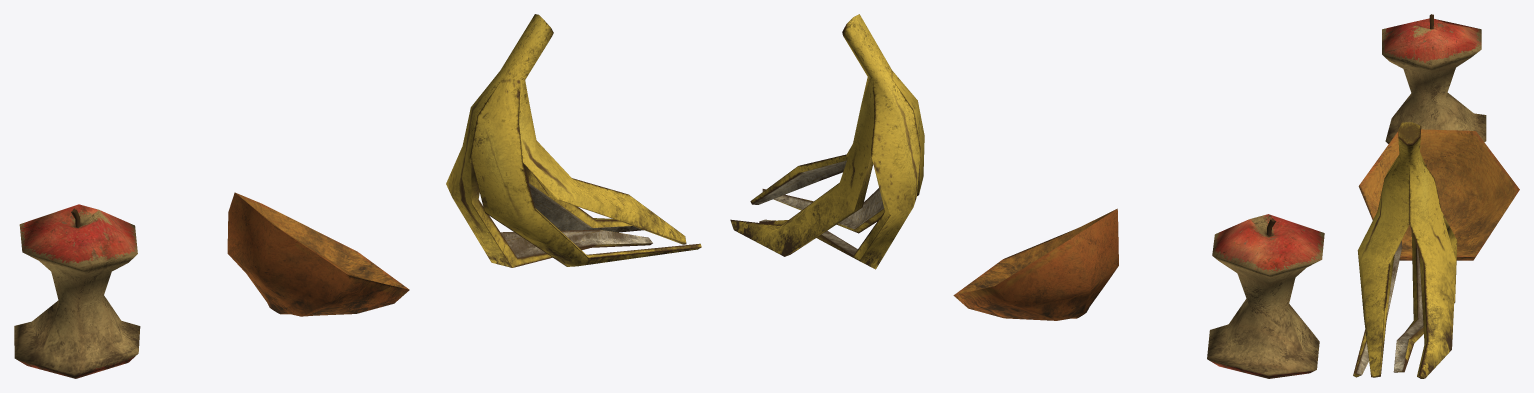
The model's file is Food_waste.fbx.
3 views of the same model, side by side, from view 1: azimuth 30°, elevation 25°; view 2: azimuth 150°, elevation 25°; view 3: azimuth 270°, elevation 25° (orthographic). The views are drawn at different scales.
Visible parts, largest first — view 1: Banana_Peel_GEO, Apple_Rotten_GEO, Orange_Peel_GEO; view 2: Banana_Peel_GEO, Apple_Rotten_GEO, Orange_Peel_GEO; view 3: Banana_Peel_GEO, Orange_Peel_GEO, Apple_Rotten_GEO.
Part boxes in pixels (<box>): Banana_Peel_GEO: <box>446,14,701,267</box>; Apple_Rotten_GEO: <box>14,204,140,378</box>; Orange_Peel_GEO: <box>227,192,409,316</box>; Banana_Peel_GEO: <box>730,14,924,269</box>; Apple_Rotten_GEO: <box>1207,214,1324,378</box>; Orange_Peel_GEO: <box>953,208,1118,320</box>; Banana_Peel_GEO: <box>1353,122,1457,378</box>; Orange_Peel_GEO: <box>1358,129,1519,260</box>; Apple_Rotten_GEO: <box>1382,14,1486,143</box>.
Bounding box in the file's own units: 48.21 × 18 × 13.03.
